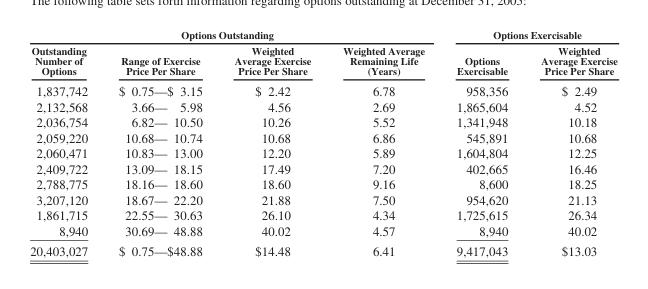table: (29, 28, 616, 258)
table column: (102, 28, 217, 258), (326, 28, 439, 258), (217, 28, 326, 258), (523, 28, 616, 258), (439, 28, 523, 258), (29, 28, 102, 258)
table column header: (29, 28, 616, 79)
table row: (29, 42, 616, 79), (29, 79, 616, 98), (29, 222, 616, 240), (29, 240, 616, 258), (29, 113, 616, 129), (29, 144, 616, 160), (29, 175, 616, 191), (29, 206, 616, 222), (29, 98, 616, 113), (29, 129, 616, 144), (29, 160, 616, 175), (29, 191, 616, 206), (29, 28, 616, 42)
table spanning cell: (29, 28, 439, 42), (439, 28, 616, 42)
